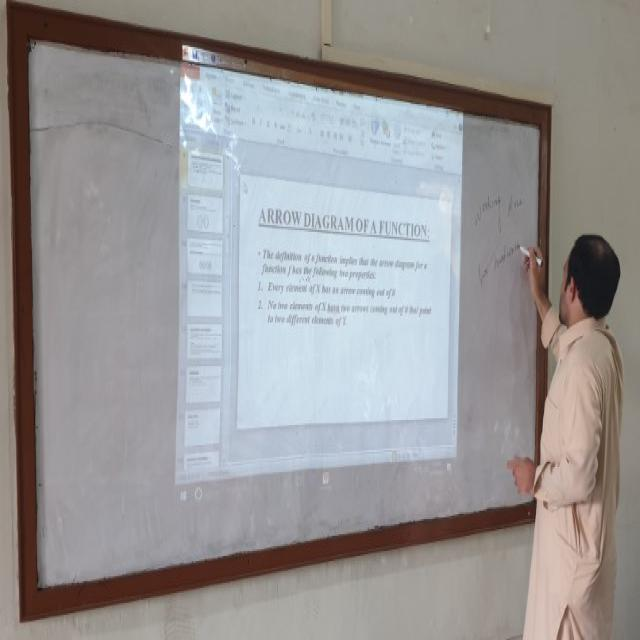Instructor: (503, 211, 639, 623)
Slide: (169, 50, 463, 513)
White-board: (18, 26, 547, 606)
